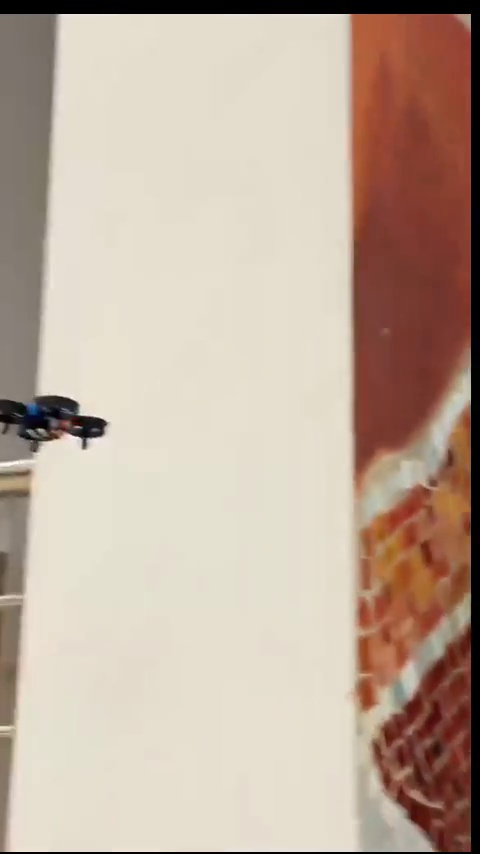drone: (0, 390, 109, 453)
